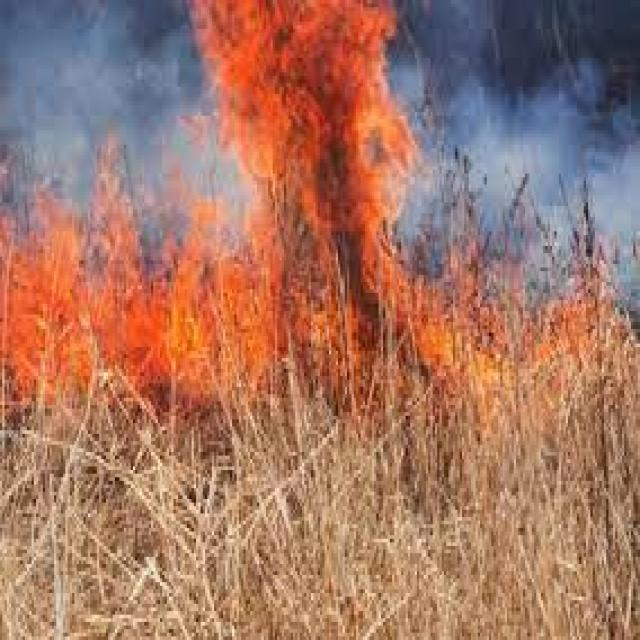fire: (2, 134, 640, 412), (182, 3, 422, 232)
